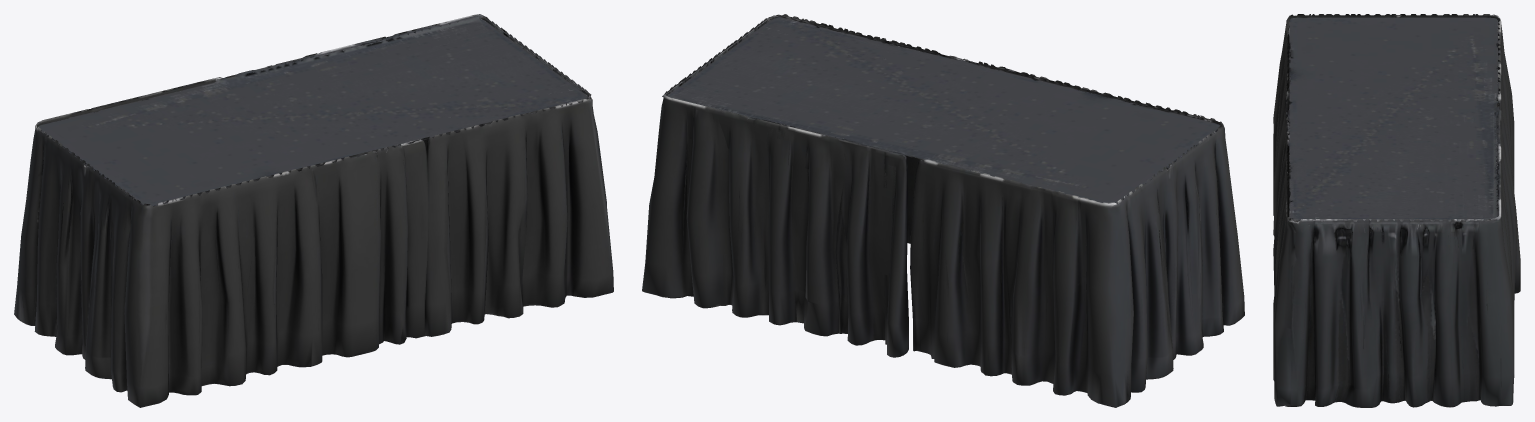
Rendered from Table_8ft_Skirted_Black_30InTall_0208185431_texture_v2_20260927.glb.
The picture shows the model from 3 angles, left to right: view 1: azimuth 30°, elevation 25°; view 2: azimuth 150°, elevation 25°; view 3: azimuth 270°, elevation 25°; orthographic projection. The views are drawn at different scales.
Parts seen in each view (by area): view 1: Mesh_0; view 2: Mesh_0; view 3: Mesh_0.
Part boxes in pixels (x1,y1,x2,y2): Mesh_0: (14,14,613,407); Mesh_0: (642,14,1244,407); Mesh_0: (1273,14,1520,407).
Size of the model in its own units: 1.97 by 0.762 by 0.9363.
Materials: 1 (1 with a texture image).
